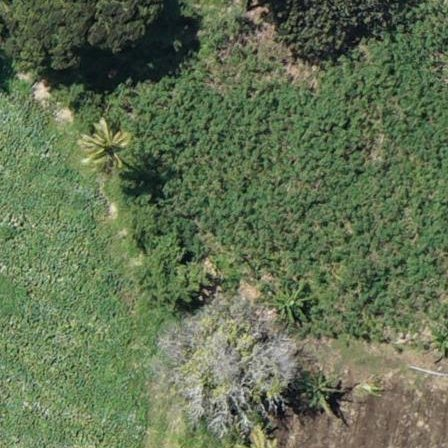palm_tree: (74, 116, 131, 178)
